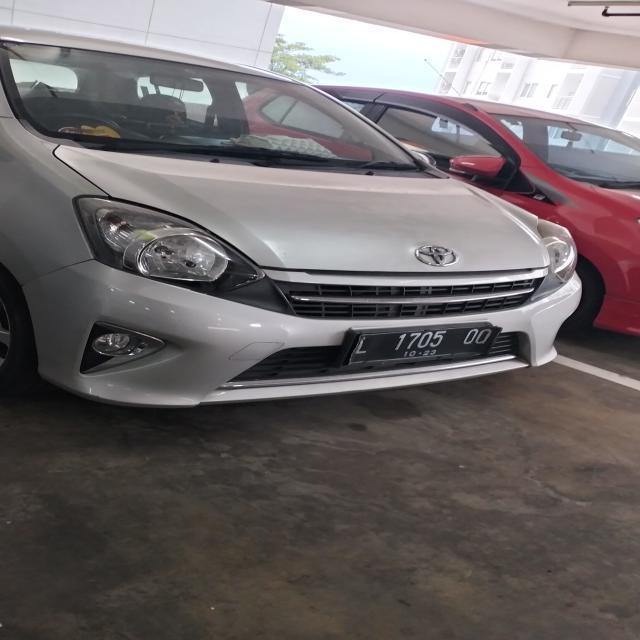0: (418, 332, 432, 347)
5: (431, 331, 446, 346)
A: (408, 331, 420, 350)
D: (393, 334, 407, 351)
L: (349, 334, 376, 359)
Q: (474, 324, 497, 354), (462, 323, 479, 352)
